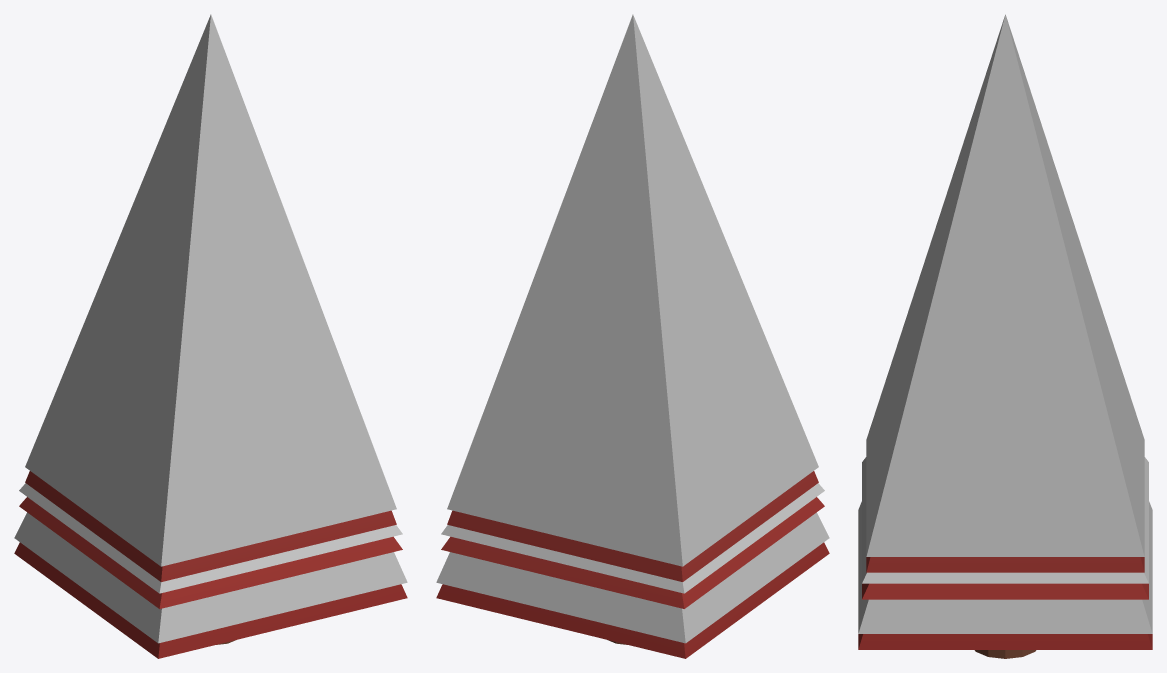
Rendered from Tree_34_winter_gradient_red_vc.fbx.
3 views of the same model, side by side, from view 1: azimuth 30°, elevation 25°; view 2: azimuth 150°, elevation 25°; view 3: azimuth 270°, elevation 25° (orthographic). The views are drawn at different scales.
Visible parts, largest first — view 1: Tree_34_winter_gradient_red_vc; view 2: Tree_34_winter_gradient_red_vc; view 3: Tree_34_winter_gradient_red_vc.
Boxes of the visible parts, left/top/right/bottom form: Tree_34_winter_gradient_red_vc: left=14, top=14, right=407, bottom=658; Tree_34_winter_gradient_red_vc: left=436, top=14, right=829, bottom=658; Tree_34_winter_gradient_red_vc: left=858, top=14, right=1152, bottom=658.
Size of the model in its own units: 83.78 by 198 by 83.78.
